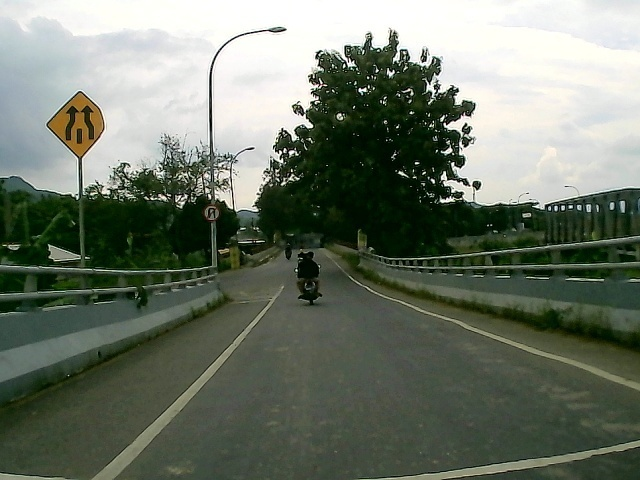Akhir bangunan pemisah satu arah: (41, 88, 112, 161)
Dilarang berbalik arah: (202, 204, 221, 225)
